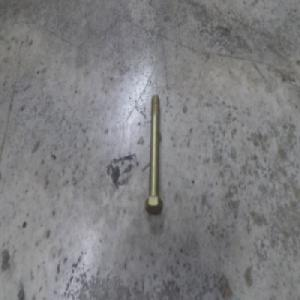Bolt: (144, 93, 162, 216)
